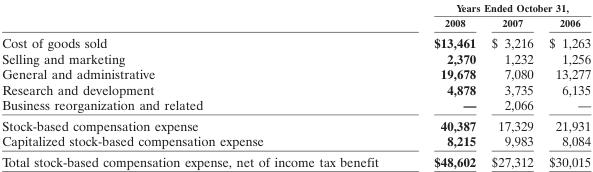table: (1, 1, 590, 169)
table column: (1, 1, 405, 169), (405, 1, 483, 169), (483, 1, 540, 169), (540, 1, 590, 169)
table column header: (1, 1, 590, 31)
table row: (1, 31, 590, 50), (1, 150, 590, 169), (1, 96, 590, 114), (1, 114, 590, 132), (1, 132, 590, 150), (1, 14, 590, 31), (1, 65, 590, 81), (1, 50, 590, 65), (1, 81, 590, 96), (1, 1, 590, 14)
table spanning cell: (405, 1, 590, 14)
